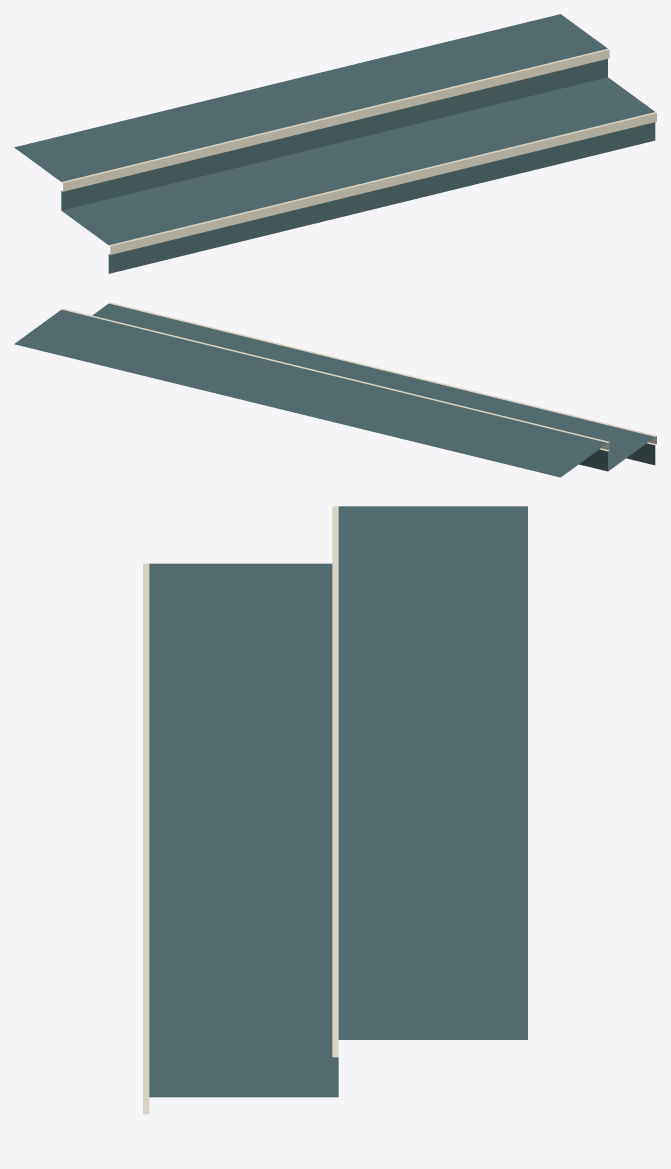
File: KC32__AD_Arc_Floor_Steps_Neon.glb
3 views of the same model, one above another, from view 1: azimuth 30°, elevation 25°; view 2: azimuth 150°, elevation 25°; view 3: azimuth 270°, elevation 25° (orthographic). The views are drawn at different scales.
Visible parts, largest first — view 1: KC32_CORPS__AD_Arc_Floor_Steps_Neon, KC32_LUMIERE__AD_Arc_Floor_Steps_Neon; view 2: KC32_CORPS__AD_Arc_Floor_Steps_Neon, KC32_LUMIERE__AD_Arc_Floor_Steps_Neon; view 3: KC32_CORPS__AD_Arc_Floor_Steps_Neon, KC32_LUMIERE__AD_Arc_Floor_Steps_Neon.
Part boxes in pixels (x1,y1,x2,y2): KC32_CORPS__AD_Arc_Floor_Steps_Neon: [14, 14, 655, 273]; KC32_LUMIERE__AD_Arc_Floor_Steps_Neon: [61, 48, 656, 254]; KC32_CORPS__AD_Arc_Floor_Steps_Neon: [14, 303, 655, 477]; KC32_LUMIERE__AD_Arc_Floor_Steps_Neon: [61, 302, 656, 451]; KC32_CORPS__AD_Arc_Floor_Steps_Neon: [149, 506, 527, 1097]; KC32_LUMIERE__AD_Arc_Floor_Steps_Neon: [143, 506, 338, 1114].
Size of the model in its own units: 4 by 0.4 by 1.22.
